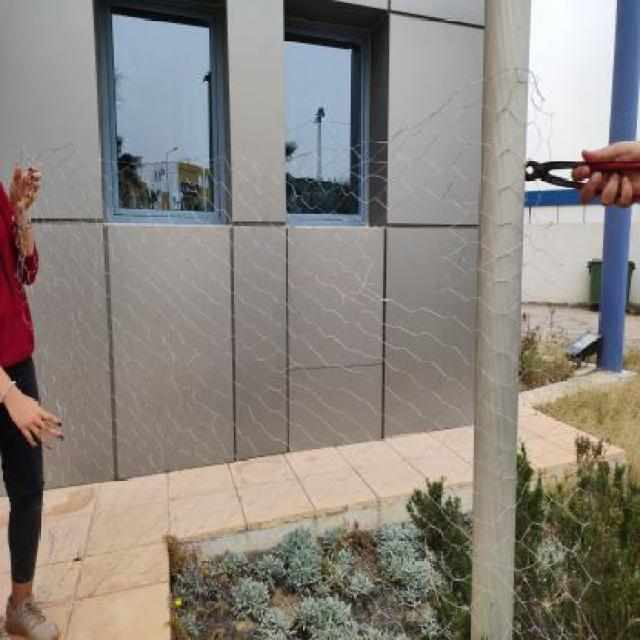fence line: (563, 82, 634, 498), (355, 189, 463, 313), (91, 575, 255, 623)
